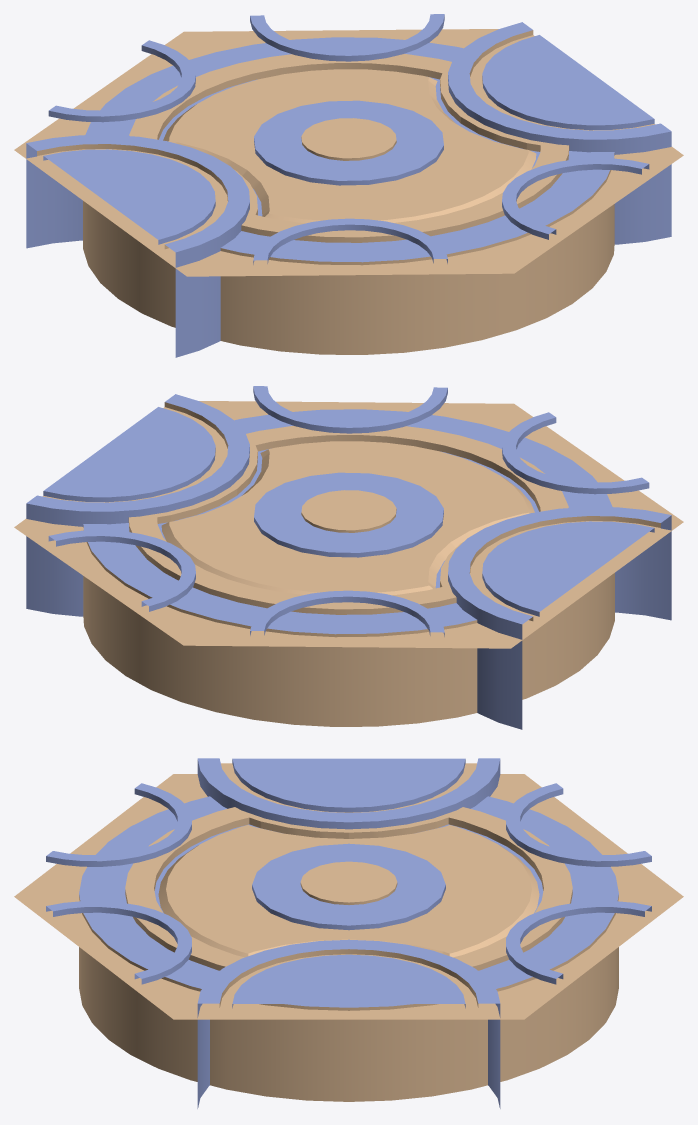
Rendered from Mesh_Floor_2.fbx.
3 renders of one model, top to bottom at view 1: azimuth 30°, elevation 25°; view 2: azimuth 150°, elevation 25°; view 3: azimuth 270°, elevation 25°, orthographic.
Parts seen in each view (by area): view 1: group2_pCylinder1; view 2: group2_pCylinder1; view 3: group2_pCylinder1.
Boxes of the visible parts, x1,y1,x2,y2 form: group2_pCylinder1: [14, 14, 683, 357]; group2_pCylinder1: [14, 386, 683, 729]; group2_pCylinder1: [14, 758, 683, 1108].
Bounding box in the file's own units: 1039 × 211 × 1197.
